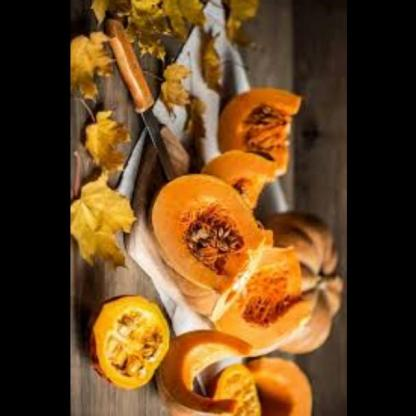pumpkin: (144, 174, 270, 320), (258, 209, 344, 356), (208, 232, 309, 350), (85, 288, 172, 391), (215, 78, 301, 182), (155, 328, 254, 416), (240, 351, 315, 416), (199, 142, 277, 204), (204, 360, 264, 416)
